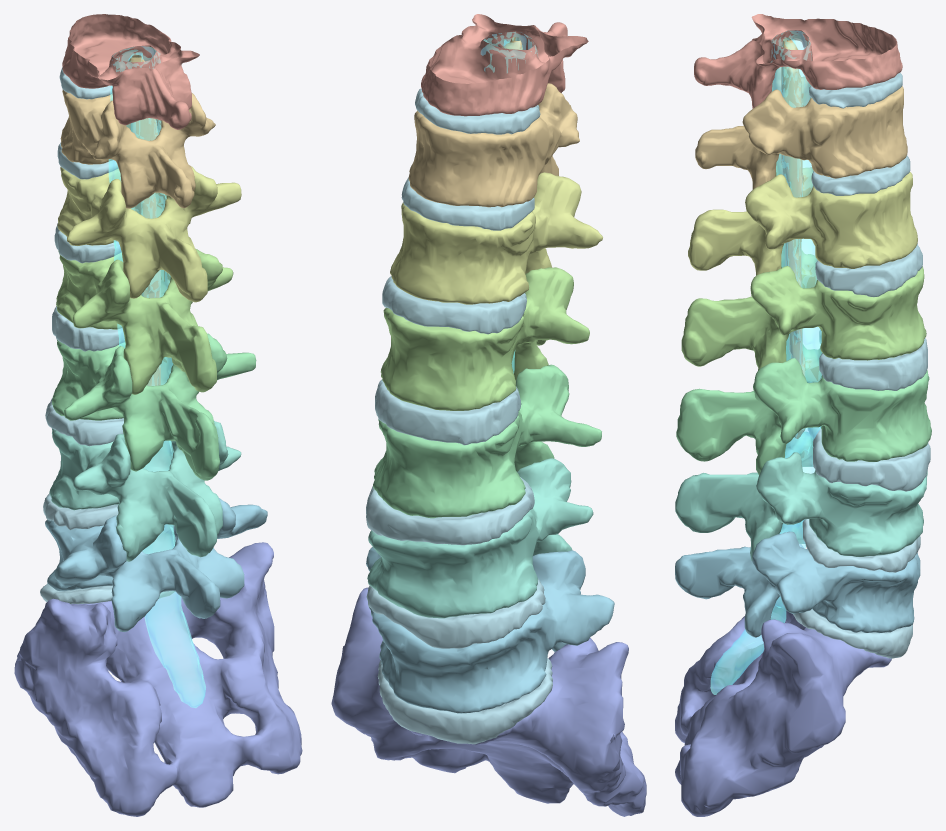
File: spine.glb
The picture shows the model from 3 angles, left to right: view 1: azimuth 30°, elevation 25°; view 2: azimuth 150°, elevation 25°; view 3: azimuth 270°, elevation 25°; orthographic projection. The views are drawn at different scales.
Visible parts, largest first — view 1: v026, v023, v022, v024, v021, v020, v018, v019, canal, v122, v121, cord (+5 smaller); view 2: v026, v024, v022, v023, v021, v020, v019, v018, v124, v122, v121, v123 (+4 smaller); view 3: v026, v022, v021, v023, v020, v024, v019, v018, canal, v122, v121, v120 (+5 smaller).
Boxes of the visible parts, x1,y1,x2,y2 form: v026: [14, 542, 302, 816]; v023: [49, 420, 241, 561]; v022: [52, 333, 256, 480]; v024: [45, 498, 267, 632]; v021: [56, 242, 233, 394]; v020: [57, 166, 241, 302]; v018: [62, 14, 199, 129]; v019: [60, 89, 215, 208]; canal: [108, 46, 205, 707]; v122: [45, 398, 123, 446]; v121: [52, 306, 124, 351]; cord: [126, 55, 160, 385]; v026: [331, 587, 646, 816]; v024: [366, 547, 614, 713]; v022: [373, 364, 601, 518]; v023: [367, 458, 593, 618]; v021: [380, 267, 589, 410]; v020: [390, 172, 602, 304]; v019: [408, 83, 579, 207]; v018: [421, 14, 588, 116]; v124: [377, 658, 552, 744]; v122: [366, 477, 534, 545]; v121: [375, 379, 521, 445]; v123: [366, 579, 545, 648]; v026: [675, 544, 891, 816]; v022: [676, 337, 931, 475]; v021: [681, 243, 926, 370]; v023: [675, 432, 927, 560]; v020: [688, 154, 917, 275]; v024: [675, 521, 920, 637]; v019: [695, 67, 907, 189]; v018: [694, 14, 902, 108]; canal: [710, 31, 821, 694]; v122: [808, 427, 930, 491]; v121: [819, 330, 927, 390]; v120: [815, 244, 922, 297].
Size of the model in its own units: 0.1058 by 0.2993 by 0.0951.
